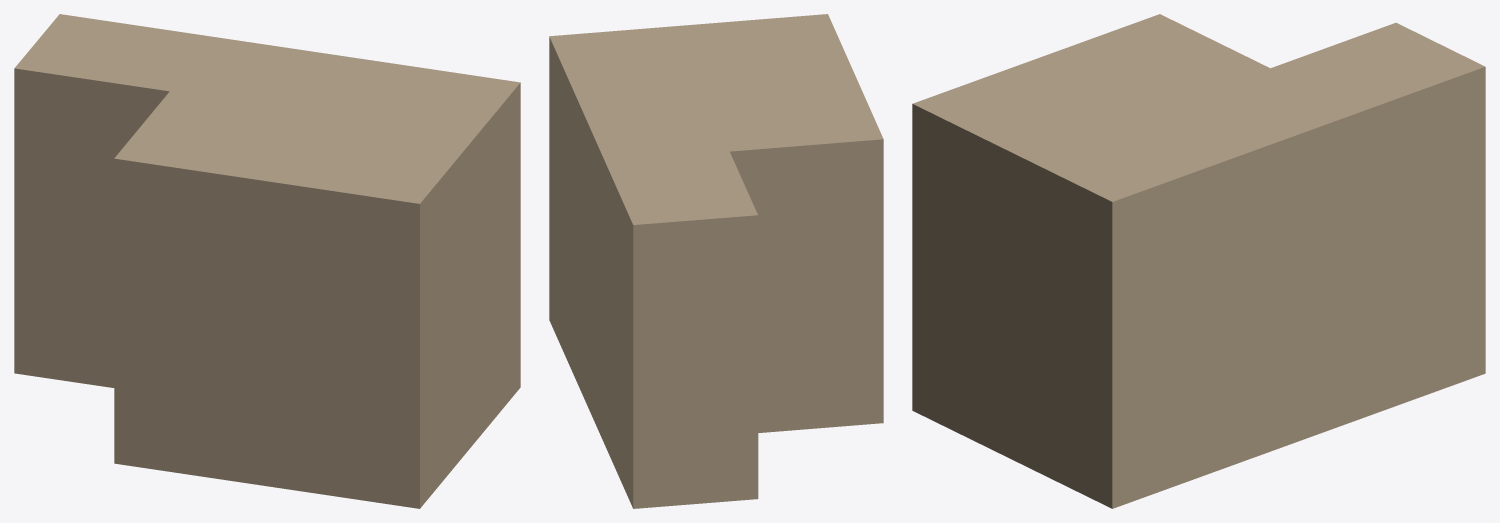
Rendered from bld_100469821.dae.
3 views of the same model, side by side, from view 1: azimuth 30°, elevation 25°; view 2: azimuth 150°, elevation 25°; view 3: azimuth 270°, elevation 25° (orthographic). The views are drawn at different scales.
Parts seen in each view (by area): view 1: bld_100469821; view 2: bld_100469821; view 3: bld_100469821.
Part boxes in pixels (box(x1,y1,x2,y2)): bld_100469821: box(14, 14, 520, 508); bld_100469821: box(549, 14, 883, 508); bld_100469821: box(912, 14, 1485, 508).
Size of the model in its own units: 10.51 by 13.54 by 8.
